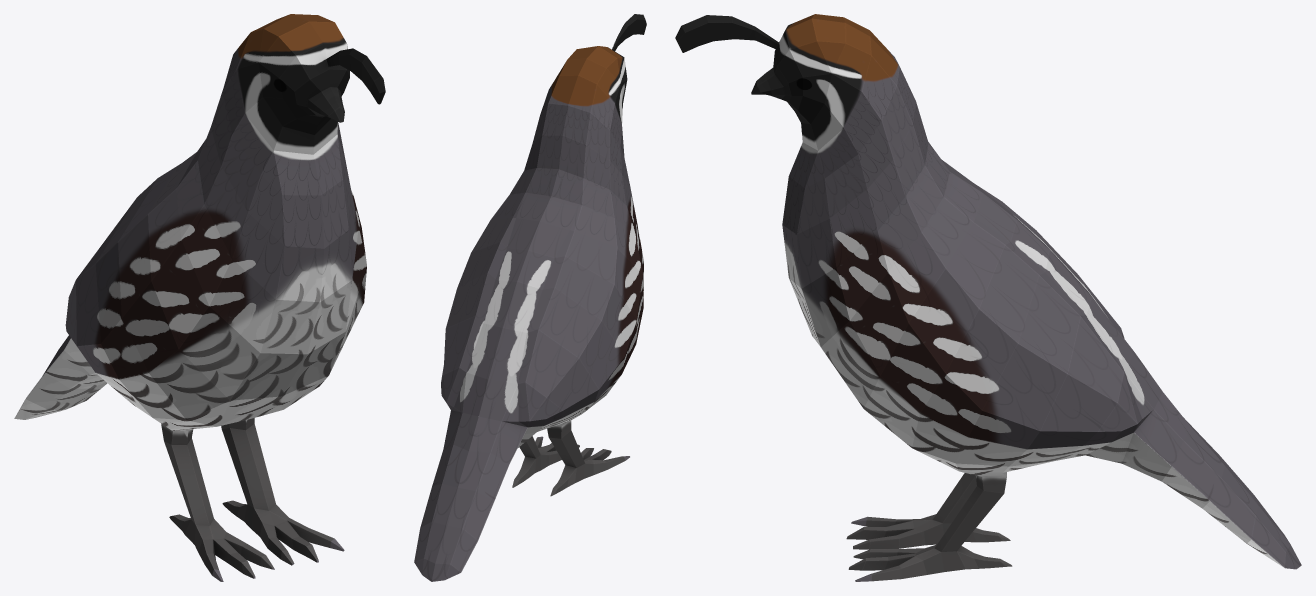
The model's file is quail.glb.
3 views of the same model, side by side, from view 1: azimuth 30°, elevation 25°; view 2: azimuth 150°, elevation 25°; view 3: azimuth 270°, elevation 25° (orthographic). The views are drawn at different scales.
Visible parts, largest first — view 1: GambelsQuail_Mesh; view 2: GambelsQuail_Mesh; view 3: GambelsQuail_Mesh.
Part boxes in pixels (box(x1,y1,x2,y2)): GambelsQuail_Mesh: box(14, 14, 385, 581); GambelsQuail_Mesh: box(414, 14, 646, 581); GambelsQuail_Mesh: box(675, 14, 1301, 581).
Bounding box in the file's own units: 0.1056 × 0.2517 × 0.2556.
1 material, 1 textured.
